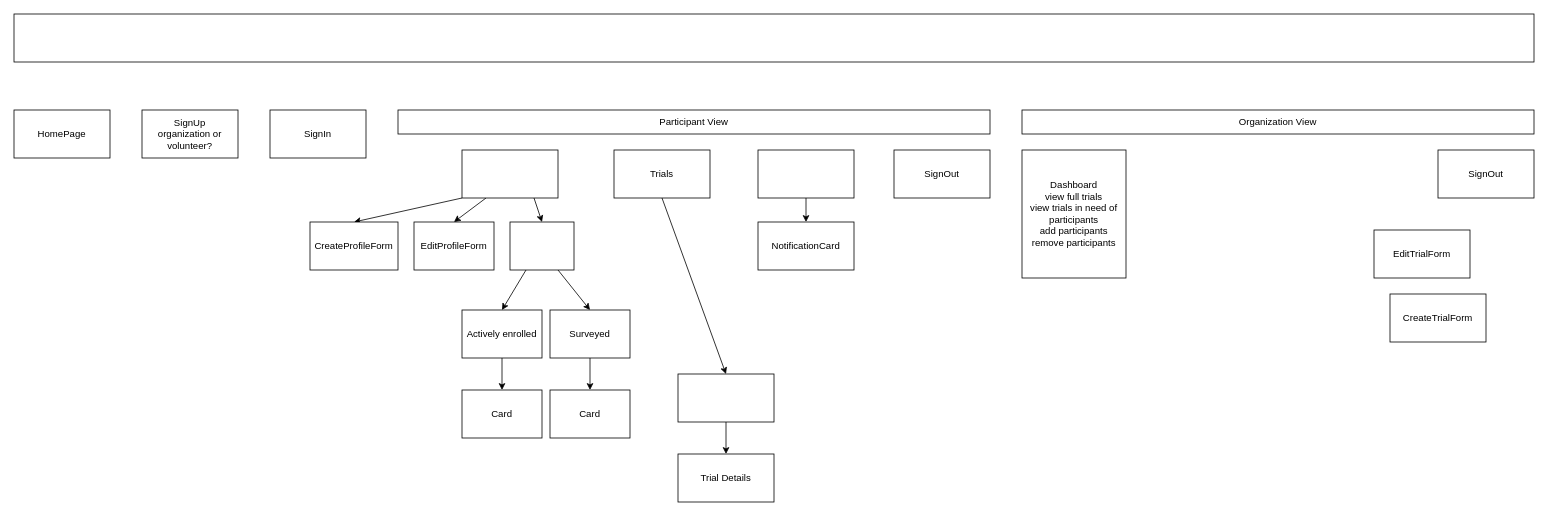
Image size: 1548x516. Some labels were removed from this diagram. The centre of each missing label's shape, as x and y in pixels:
App: [773,37]
MyTrials: [541,245]
Notifications: [805,173]
Profile: [509,173]
TrialCard: [725,397]
